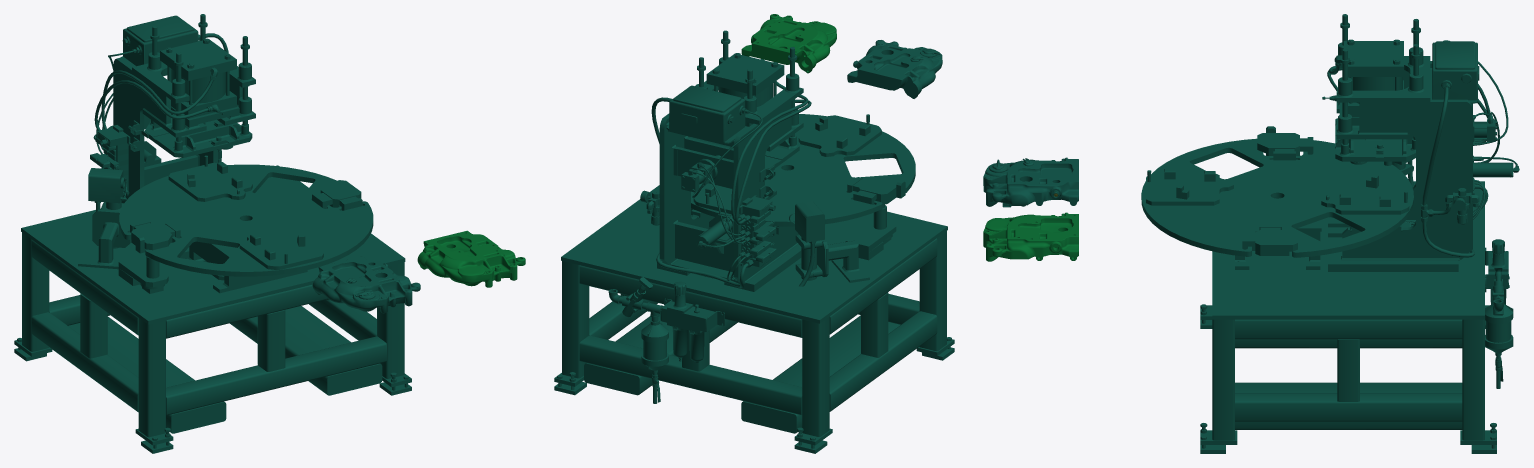
Rendered from 3DAnyCAD.FBX.
3 views of the same model, side by side, from view 1: azimuth 30°, elevation 25°; view 2: azimuth 150°, elevation 25°; view 3: azimuth 270°, elevation 25° (orthographic). The views are drawn at different scales.
Parts seen in each view (by area): view 1: 桌子, 工件, 工件匯入; view 2: 桌子, 工件, 工件匯入; view 3: 桌子, 工件, 工件匯入.
Part boxes in pixels (x1,y1,x2,y2): 桌子: [14, 14, 411, 453]; 工件: [312, 256, 420, 313]; 工件匯入: [417, 230, 525, 287]; 桌子: [554, 30, 954, 453]; 工件: [847, 40, 942, 98]; 工件匯入: [741, 14, 836, 73]; 桌子: [1141, 14, 1519, 453]; 工件: [983, 157, 1078, 207]; 工件匯入: [983, 212, 1078, 261].
Bounding box in the file's own units: 154 × 240 × 174.
